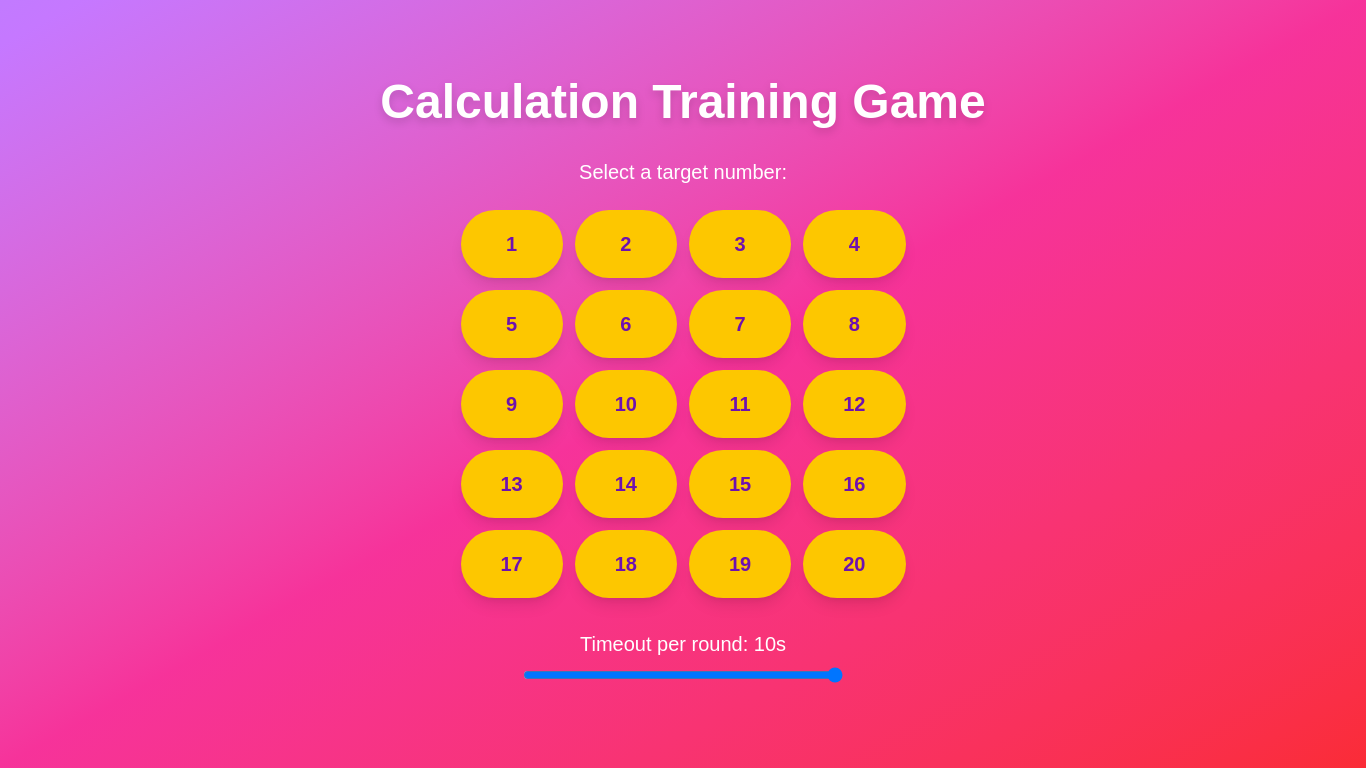
Test: Calculation Training integration › starts a game and loses after timeout
Click the button "1" at point(512, 244), box [460, 210, 563, 278]
Wait 10000 ms
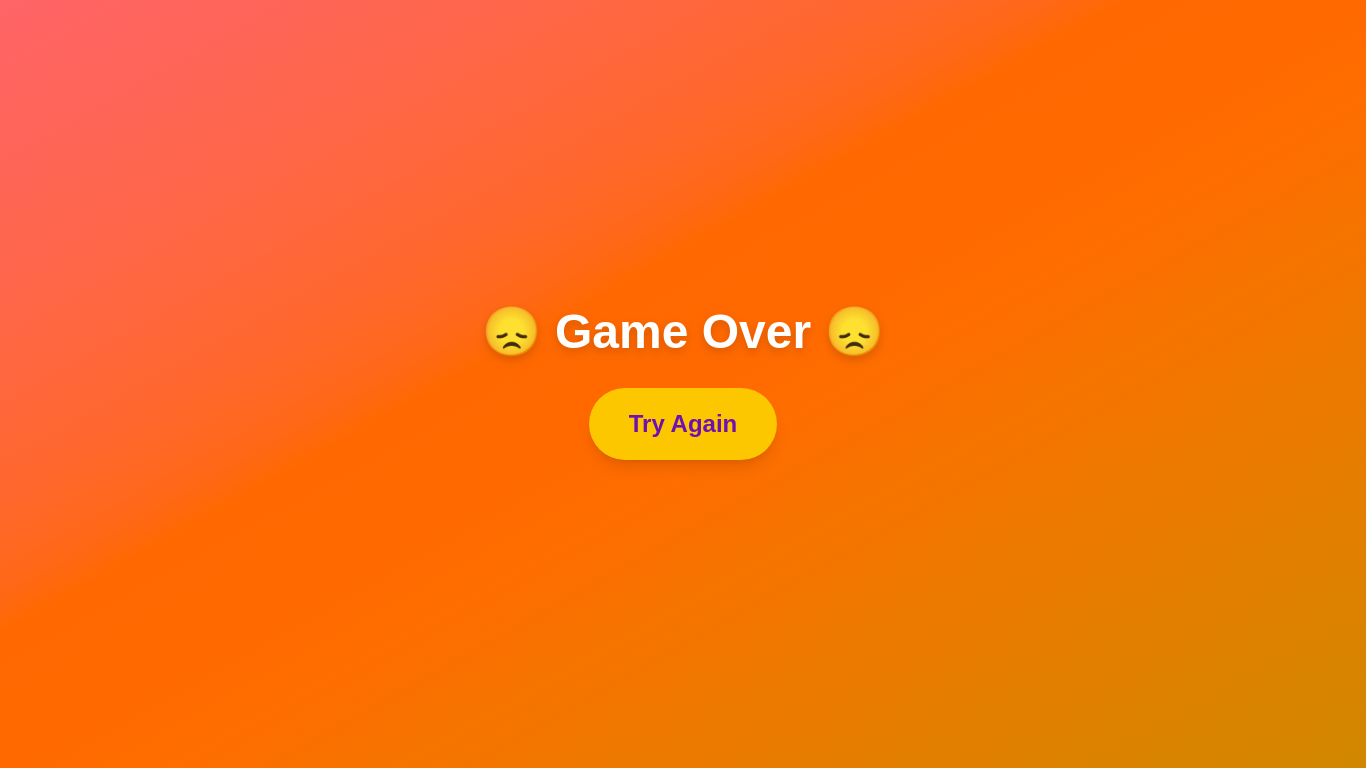
Result: the heading "😞 Game Over 😞" is shown at [482, 308, 884, 356]
Result: the button "Try Again" is shown at [589, 388, 777, 460]
